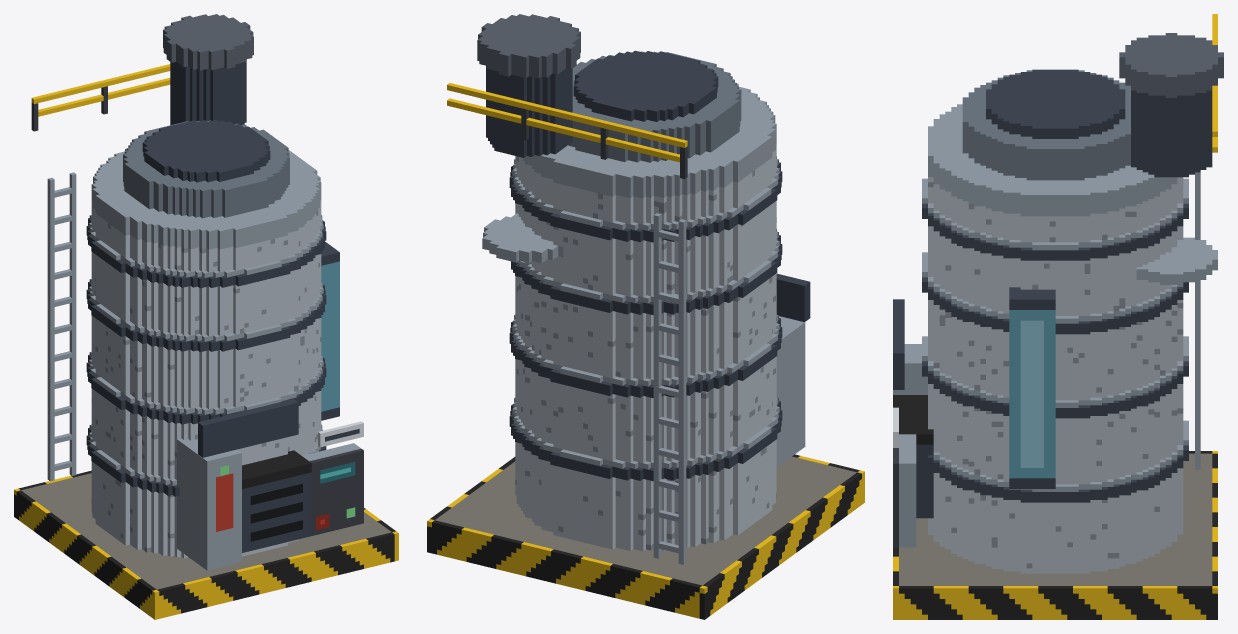
Rendered from boiler.obj.
The picture shows the model from 3 angles, left to right: view 1: azimuth 30°, elevation 25°; view 2: azimuth 150°, elevation 25°; view 3: azimuth 270°, elevation 25°; orthographic projection. The views are drawn at different scales.
Visible parts, largest first — view 1: boiler; view 2: boiler; view 3: boiler.
Part boxes in pixels (bbox=[...]): boiler: bbox=[14, 14, 398, 619]; boiler: bbox=[427, 14, 864, 619]; boiler: bbox=[893, 14, 1223, 619].
Size of the model in its own units: 1.75 by 3.12 by 1.78.
